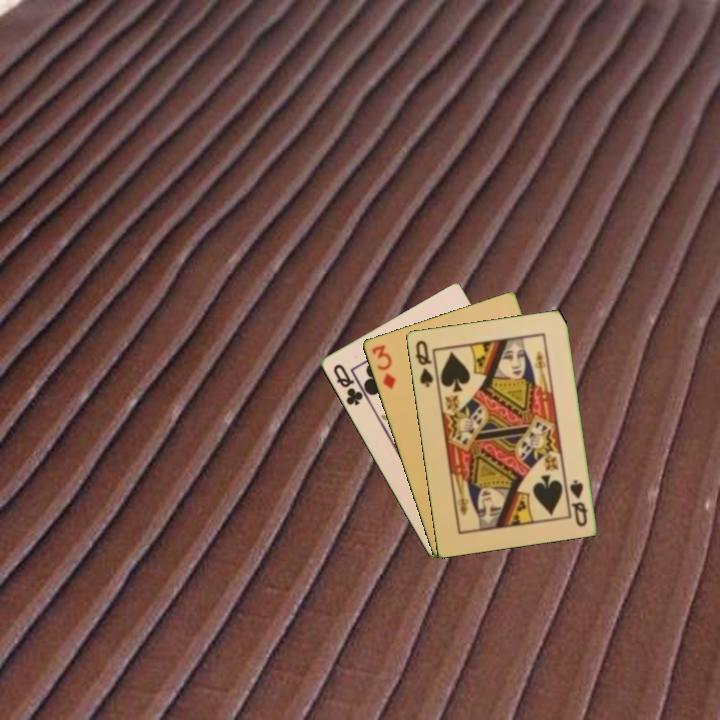3d: (368, 341, 399, 392)
Qc: (329, 360, 365, 409)
Qs: (412, 336, 436, 390), (566, 476, 590, 529)
